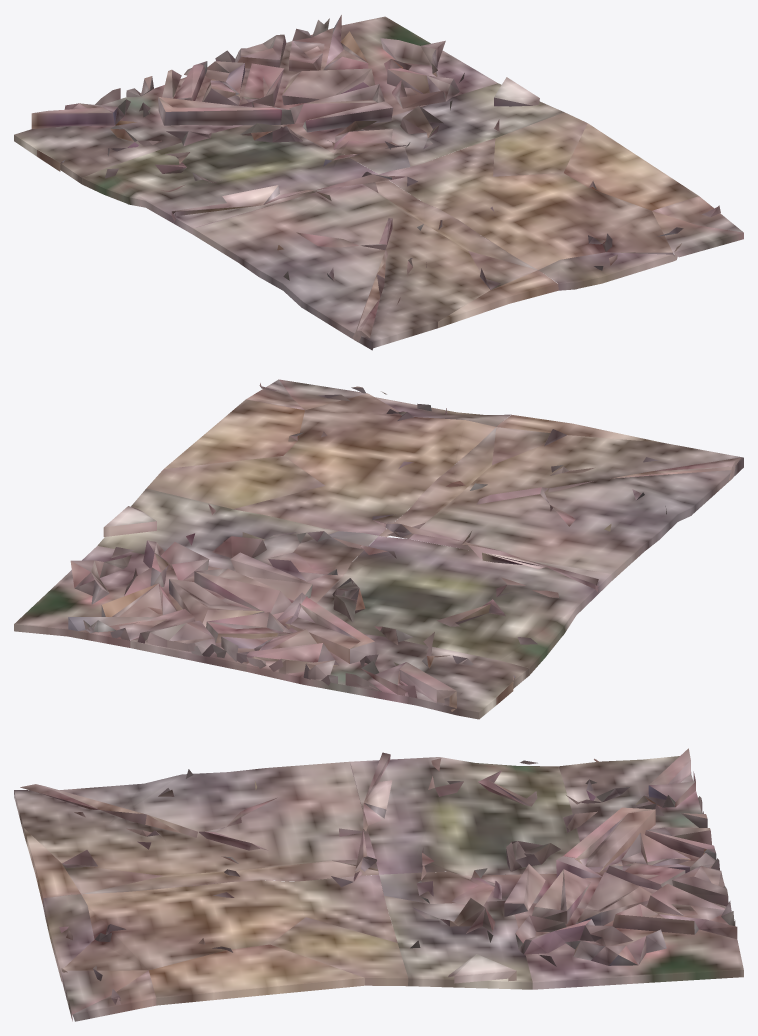
3 views of the same model, one above another, from view 1: azimuth 30°, elevation 25°; view 2: azimuth 150°, elevation 25°; view 3: azimuth 270°, elevation 25° (orthographic). The views are drawn at different scales.
Parts seen in each view (by area): view 1: Mesh_0; view 2: Mesh_0; view 3: Mesh_0.
Part boxes in pixels (<box>): Mesh_0: <box>14,15,743,350</box>; Mesh_0: <box>14,379,743,719</box>; Mesh_0: <box>14,748,743,1021</box>.
Bounding box in the file's own units: 532 × 39.72 × 659.
1 material, 1 textured.
